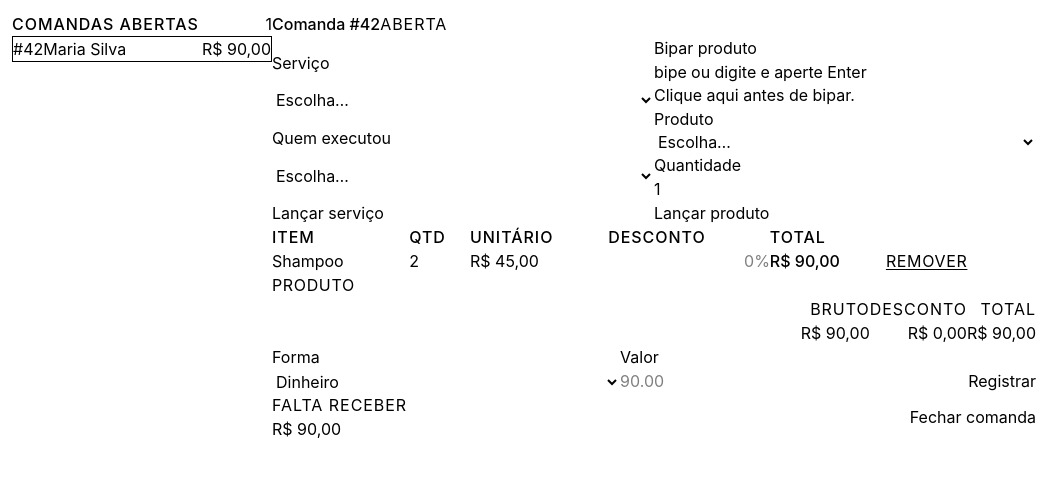
Test: tela de fechamento › mostra a mensagem do servidor, não uma genérica
What coordinates should you click on to do the following:
click the button with aria-label "Remover Shampoo"
I would click on:
 (927, 261)
Its box is [886,249,967,273].
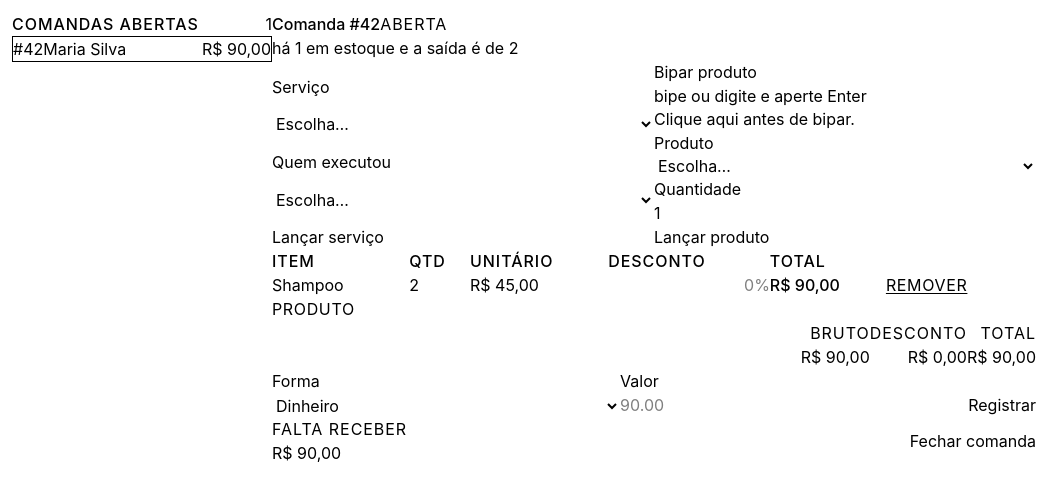
Now the message "há 1 em estoque e a saída é de 2" is shown, box [272,38,518,58]
